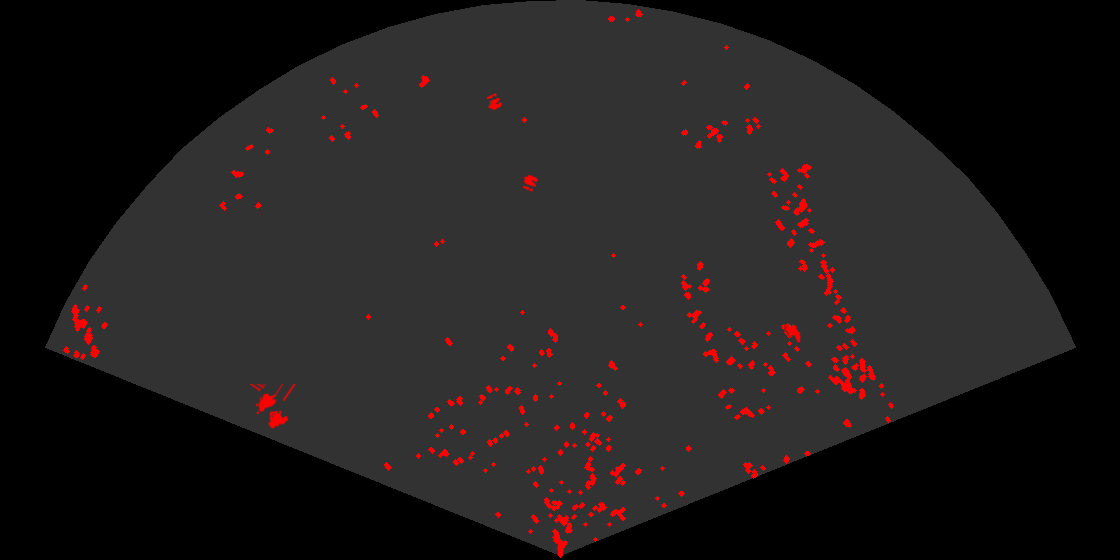AUV: (783, 321, 802, 344)
ball: (521, 173, 540, 193), (485, 92, 504, 112)
cage: (248, 384, 298, 430)
